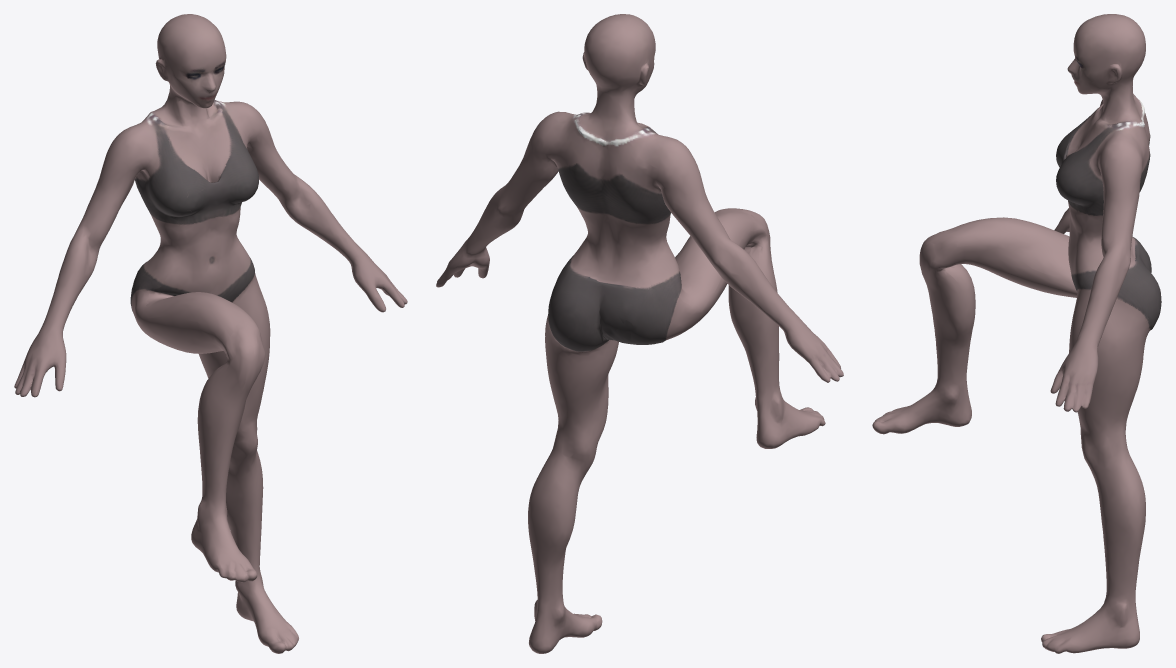
Rendered from 09-ThighL-90-child90-twist0-candidate.glb.
The picture shows the model from 3 angles, left to right: view 1: azimuth 30°, elevation 25°; view 2: azimuth 150°, elevation 25°; view 3: azimuth 270°, elevation 25°; orthographic projection. The views are drawn at different scales.
Parts seen in each view (by area): view 1: candidate; view 2: candidate; view 3: candidate.
Boxes of the visible parts, x1,y1,x2,y2 form: candidate: (14, 14, 407, 653); candidate: (436, 14, 843, 653); candidate: (872, 14, 1161, 653).
Bounding box in the file's own units: 0.6508 × 1 × 0.436.
1 material, 1 textured.
